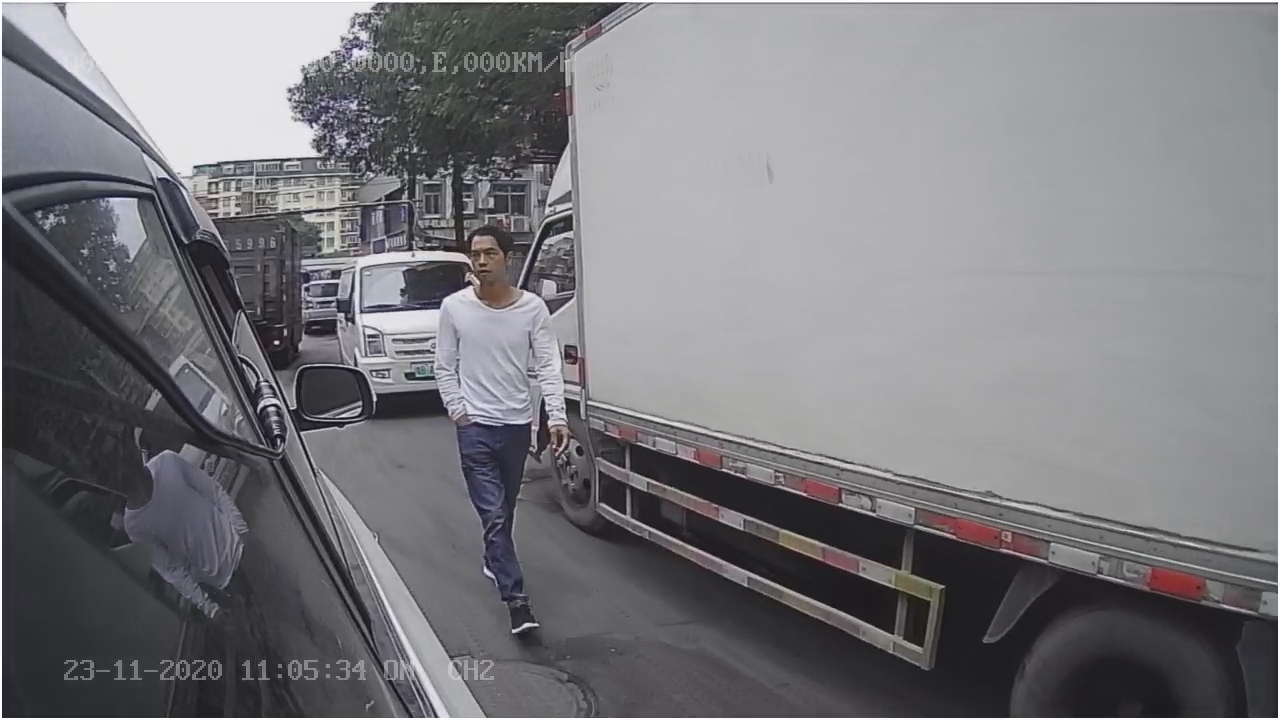person: (429, 222, 575, 642)
